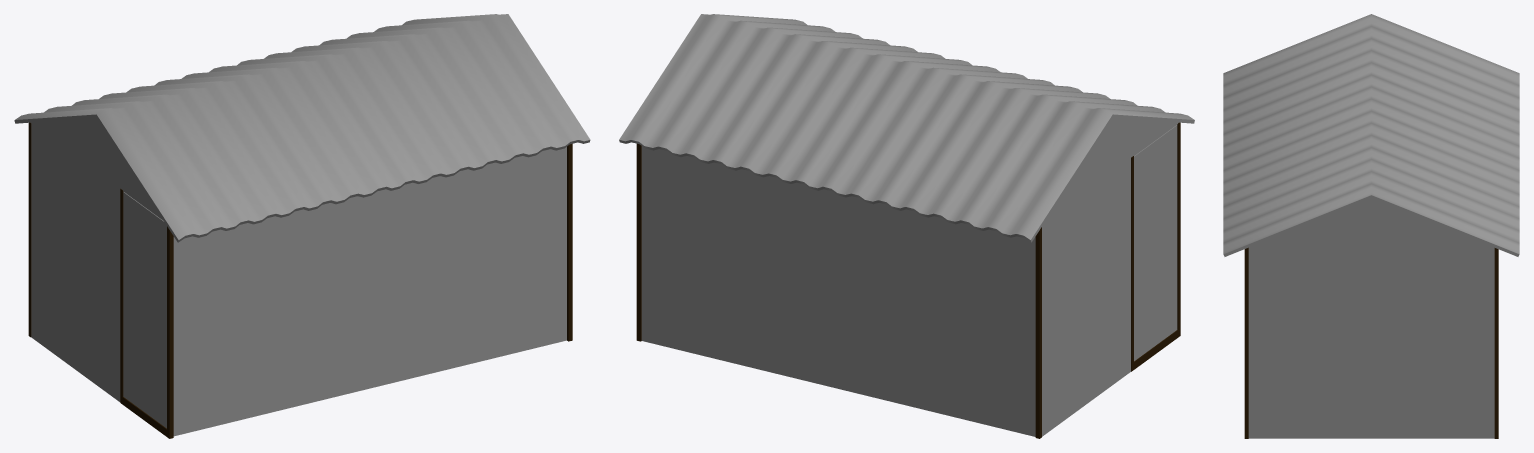
The model's file is SchoolGarage.fbx.
3 views of the same model, side by side, from view 1: azimuth 30°, elevation 25°; view 2: azimuth 150°, elevation 25°; view 3: azimuth 270°, elevation 25° (orthographic). The views are drawn at different scales.
Parts seen in each view (by area): view 1: Box002; view 2: Box002; view 3: Box002.
Boxes of the visible parts, x1,y1,x2,y2 form: Box002: (14, 14, 590, 438); Box002: (619, 14, 1194, 438); Box002: (1223, 14, 1519, 438).
Size of the model in its own units: 5.07 by 3.25 by 3.5.
